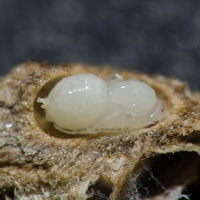insect: (0, 62, 199, 199), (35, 73, 169, 134), (43, 72, 148, 135), (142, 176, 189, 199)
